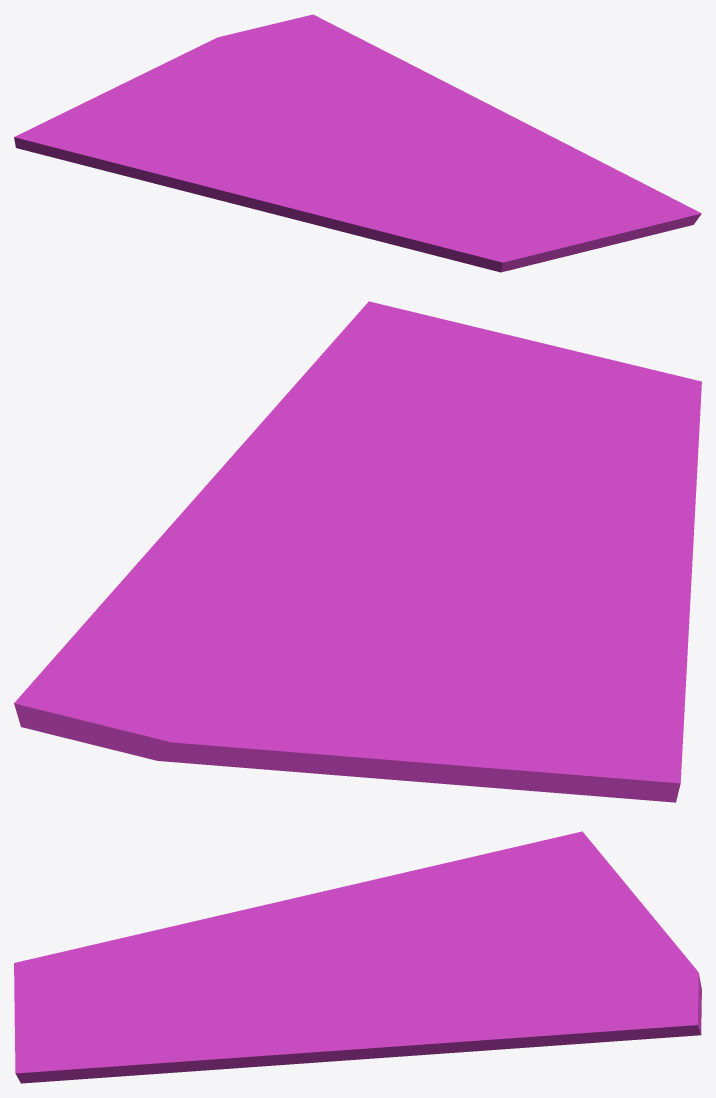
Rendered from parca_2.fbx.
3 views of the same model, one above another, from view 1: azimuth 30°, elevation 25°; view 2: azimuth 150°, elevation 25°; view 3: azimuth 270°, elevation 25° (orthographic). The views are drawn at different scales.
Visible parts, largest first — view 1: Vitray2; view 2: Vitray2; view 3: Vitray2.
Part boxes in pixels (x1=…): Vitray2: x1=14, y1=14, x2=701, y2=272; Vitray2: x1=14, y1=301, x2=701, y2=802; Vitray2: x1=14, y1=831, x2=701, y2=1083.
Bounding box in the file's own units: 77.72 × 2 × 93.34.
